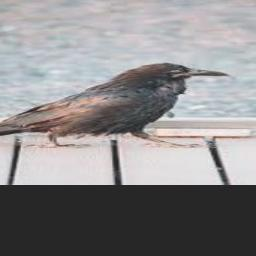Crow: (0, 62, 231, 148)
